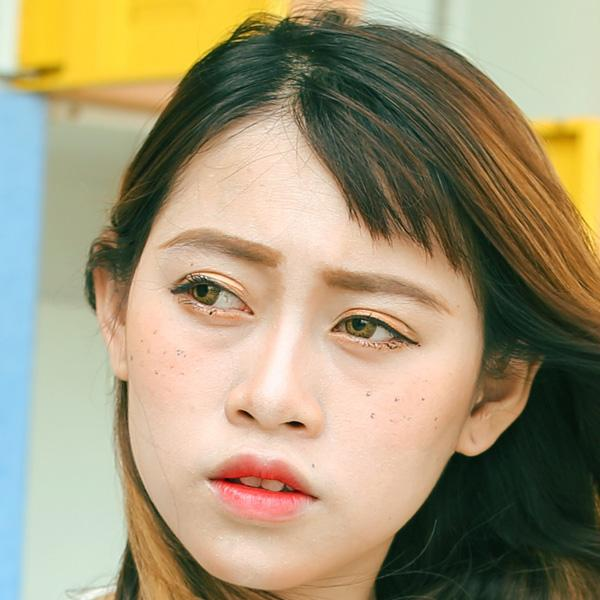Eyes: (164, 262, 263, 332), (322, 300, 429, 362)
